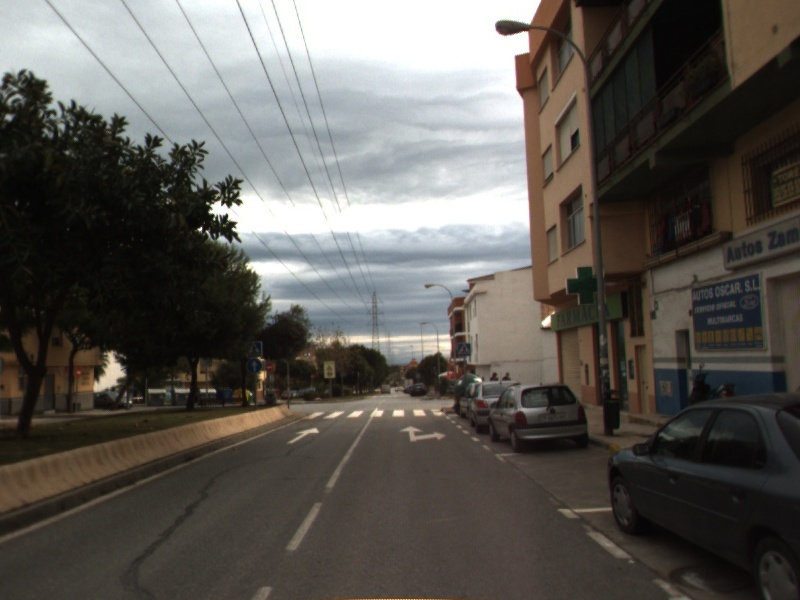STRAIGHT: (285, 425, 322, 446)
STRAIGHT_RIGHT: (397, 424, 448, 444)
